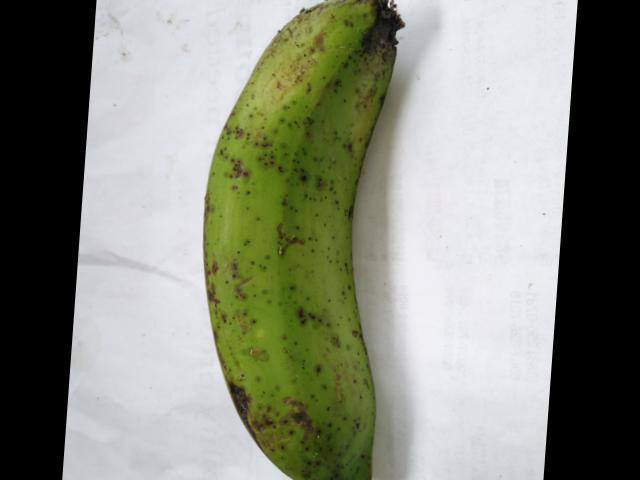unripe: (177, 0, 428, 479)
